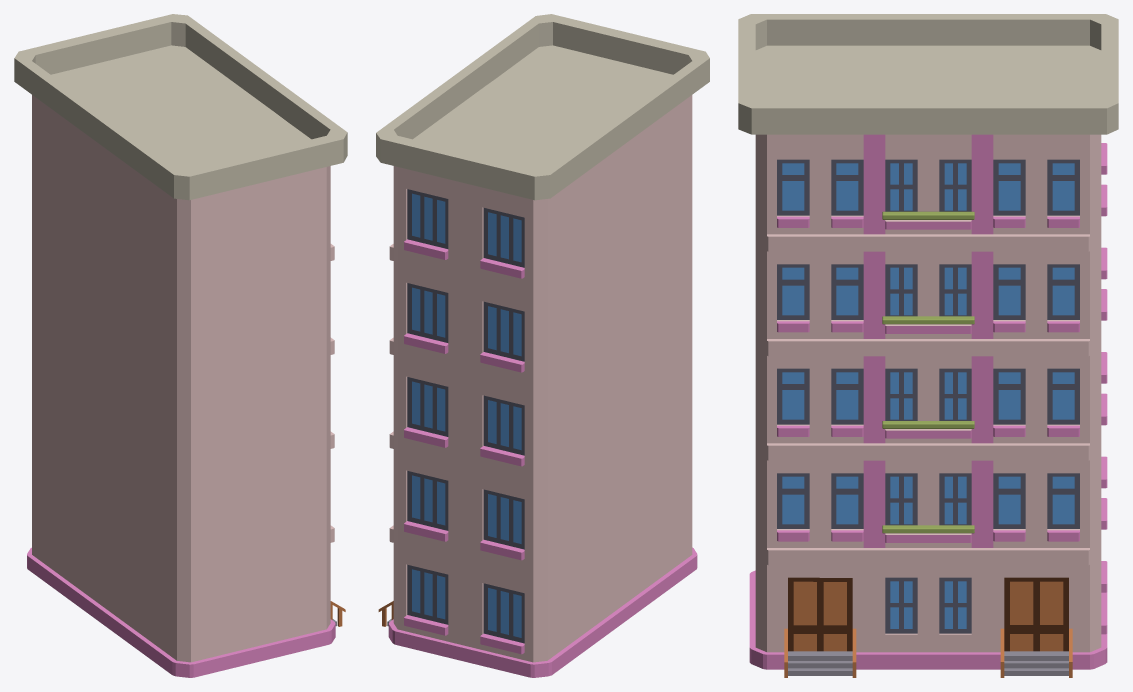
The picture shows the model from 3 angles, left to right: view 1: azimuth 30°, elevation 25°; view 2: azimuth 150°, elevation 25°; view 3: azimuth 270°, elevation 25°; orthographic projection. The views are drawn at different scales.
Visible parts, largest first — view 1: Predio 1.003; view 2: Predio 1.003; view 3: Predio 1.003.
Part boxes in pixels (x1=…): Predio 1.003: x1=14, y1=14, x2=347, y2=677; Predio 1.003: x1=376, y1=14, x2=709, y2=677; Predio 1.003: x1=738, y1=14, x2=1118, y2=677.
Bounding box in the file's own units: 4164 × 10800 × 6600.
